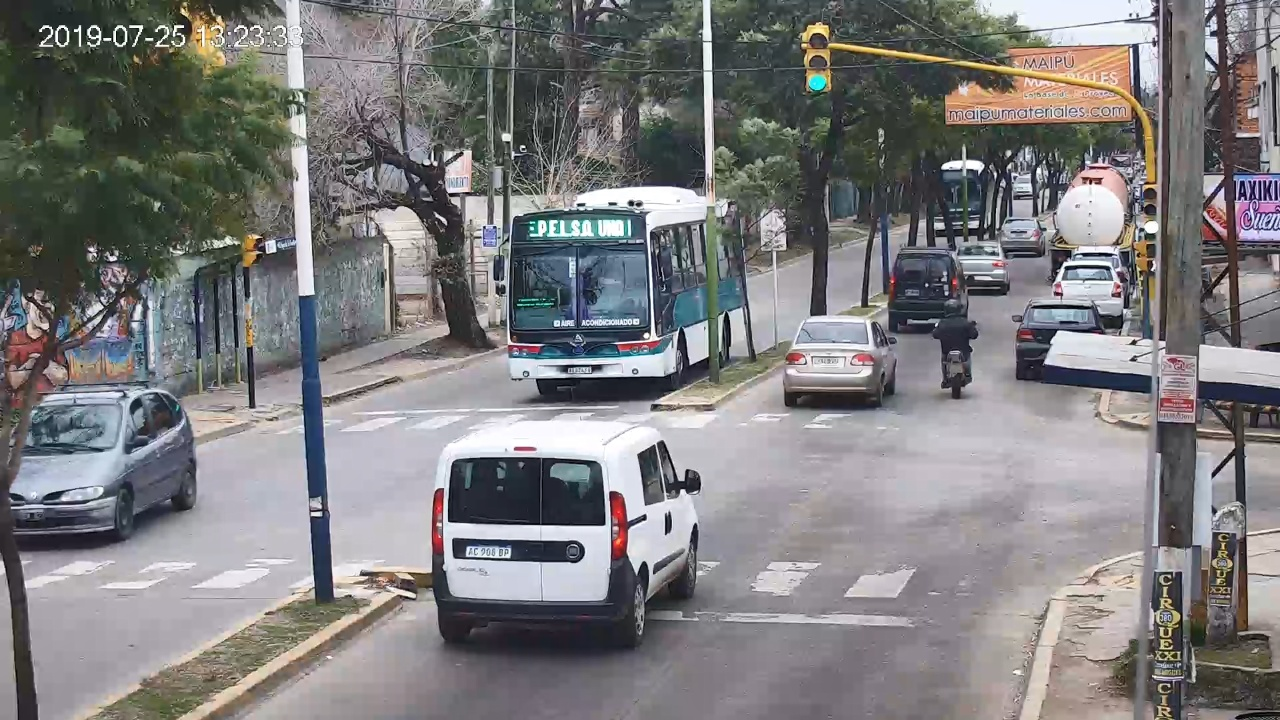car: (431, 421, 701, 646), (783, 315, 897, 405)
motorcycle: (933, 319, 978, 399)
traffic light: (805, 26, 830, 92), (1143, 186, 1159, 234)
